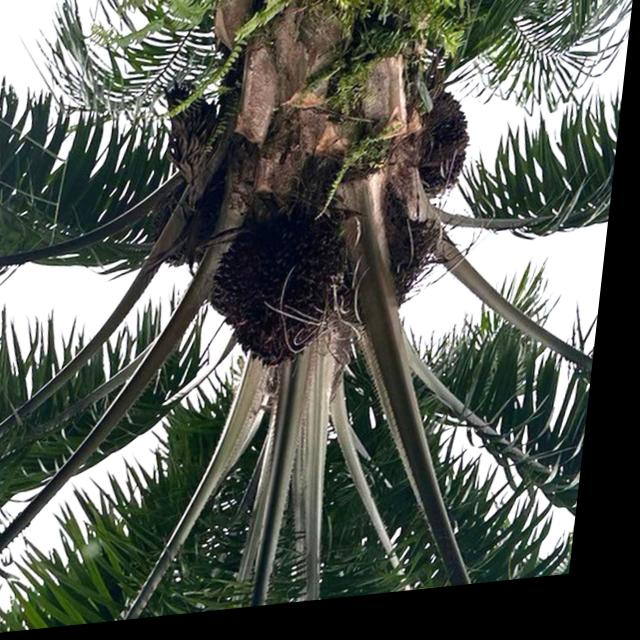ripe: (188, 199, 366, 392)
